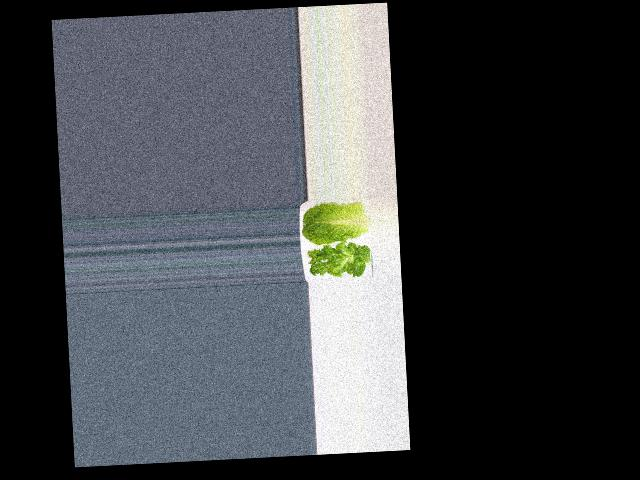lettuce: (306, 243, 369, 283)
